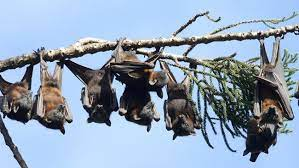bats: (68, 44, 125, 132), (246, 35, 294, 128), (160, 56, 208, 143), (38, 53, 77, 138), (0, 50, 40, 128), (121, 49, 171, 89), (118, 88, 158, 134)
